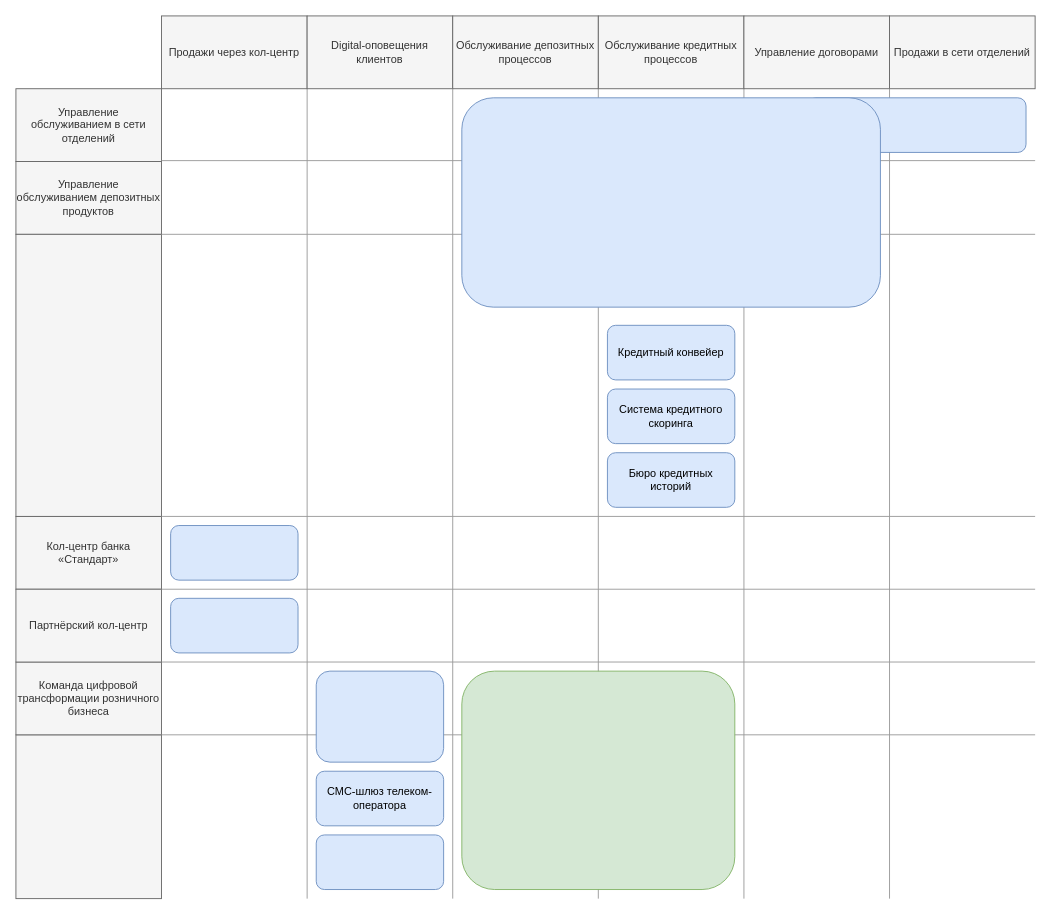
The diagram is 1052 pixels wide and 915 high, and some of its shapes have lost their labels. Each missing label, with the centre of its shape:
"Автоматизированная банковская система (АБС)" goes at point (670, 202).
"Интернет-банк" goes at point (598, 780).
"Сайт" goes at point (379, 716).
"Система кол-центра" goes at point (234, 552).
"Система партнёрского кол-центра" goes at point (234, 625).
"Телеком-оператор" goes at point (379, 862).
"Управление IT" goes at point (88, 816).
"Управление обслуживанием кредитных продуктов" goes at point (88, 374).
